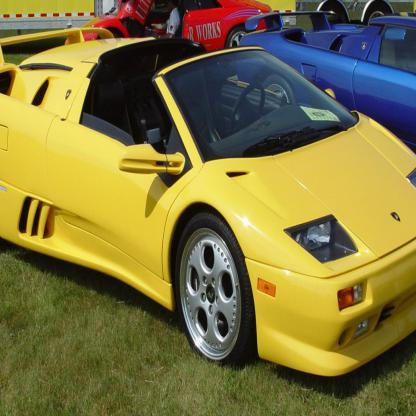Vehicle: (0, 27, 416, 388)
